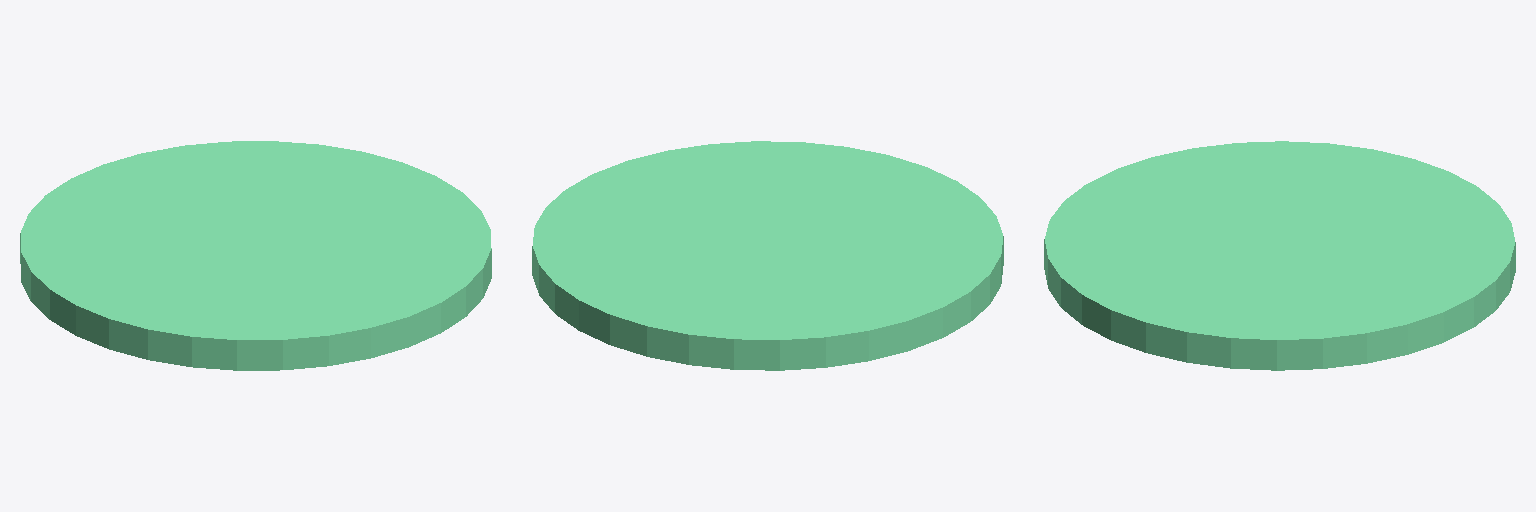
The robot description file, URDF, robot "Interference":
<?xml version="1.0"?>
<robot name="Interference">
  <link name="baseLink">
    <inertial>
      <origin xyz="0.0 0.0 0.0" rpy="0.0 0.0 0.0"/>
      <inertia ixx="0.0" ixy="0.0" ixz="0.0" iyy="0.0" iyz="0.0" izz="0.0"/>
      <mass value="0"/>
    </inertial>
    <visual>
      <origin xyz="0.0 0.0 0.0" rpy="0.0 0.0 -1.1924091652242095"/>
      <geometry>
        <cylinder radius="0.06998585105590768" length="0.01"/>
      </geometry>
      <material name="color">
        <color rgba="0.5734819196290007 0.9491130770189278 0.7350702203291953 1.0"/>
      </material>
    </visual>
  </link>
</robot>

--- Render facts (derived) ---
Views: 3 orthographic renders of the robot side by side, from view 1: azimuth 30°, elevation 25°; view 2: azimuth 150°, elevation 25°; view 3: azimuth 270°, elevation 25°.
Robot: Interference — 1 links, 0 joints (none); root link baseLink; default pose: all joints at 0.
Visible links, largest first — view 1: baseLink; view 2: baseLink; view 3: baseLink.
Boxes of the visible links, x1,y1,x2,y2 form: baseLink: [20, 141, 491, 370]; baseLink: [532, 141, 1003, 370]; baseLink: [1044, 141, 1515, 370].
Size in the robot's own frame: 0.14 by 0.14 by 0.01 metres.
Geometry: primitives only (box / cylinder / sphere), no mesh files.